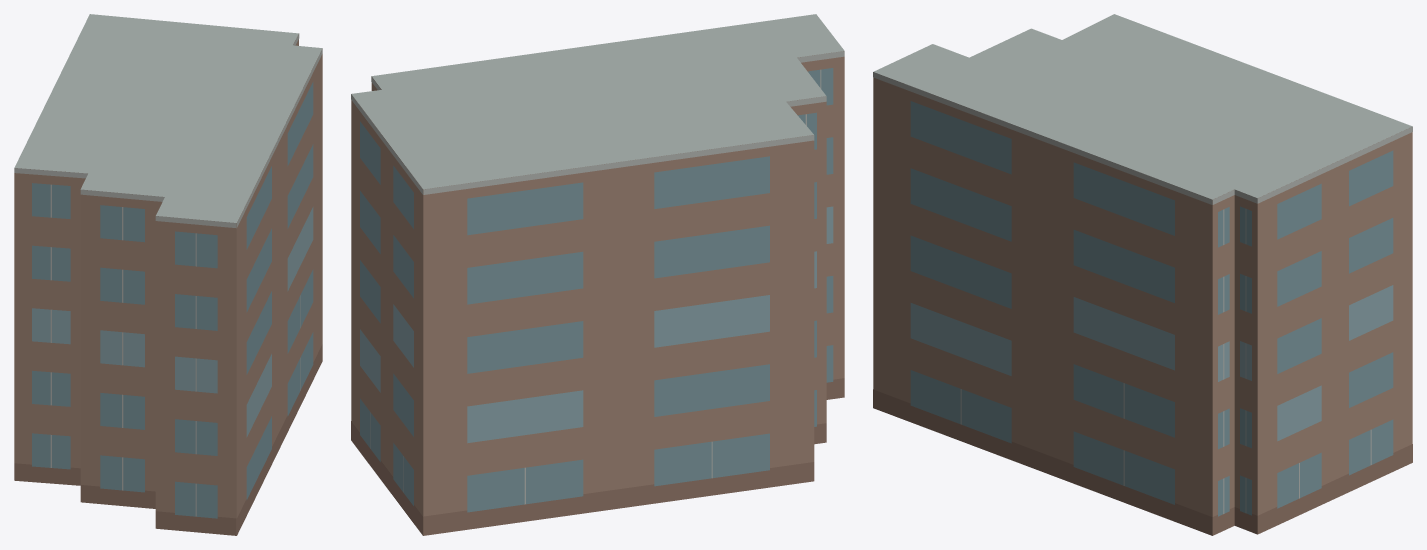
The model's file is survey-upis-32524272.glb.
3 views of the same model, side by side, from view 1: azimuth 30°, elevation 25°; view 2: azimuth 150°, elevation 25°; view 3: azimuth 270°, elevation 25° (orthographic). The views are drawn at different scales.
Parts seen in each view (by area): view 1: survey-upis-32524272.tmp; view 2: survey-upis-32524272.tmp; view 3: survey-upis-32524272.tmp.
Boxes of the visible parts, <box> form: survey-upis-32524272.tmp: <box>14,14,322,535</box>; survey-upis-32524272.tmp: <box>351,14,844,535</box>; survey-upis-32524272.tmp: <box>873,14,1412,535</box>.
Bounding box in the file's own units: 17.53 × 14.8 × 21.53.
